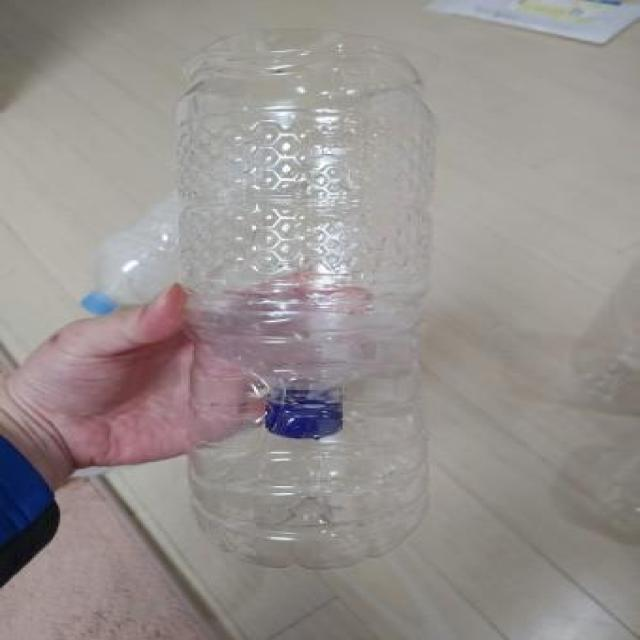plastic: (81, 32, 431, 564)
